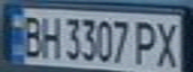0: (96, 16, 115, 63)
3: (60, 15, 81, 61), (78, 16, 96, 62)
7: (112, 17, 133, 65)
B: (18, 11, 45, 58)
H: (36, 12, 63, 60)
P: (130, 17, 160, 66)
X: (151, 17, 184, 69)
